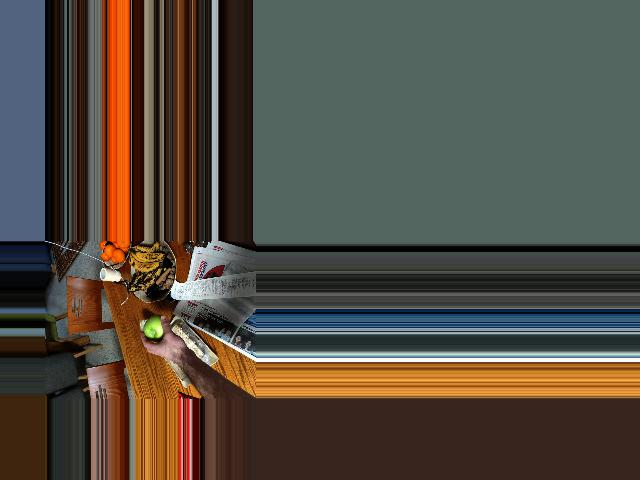apple: (140, 315, 169, 346)
